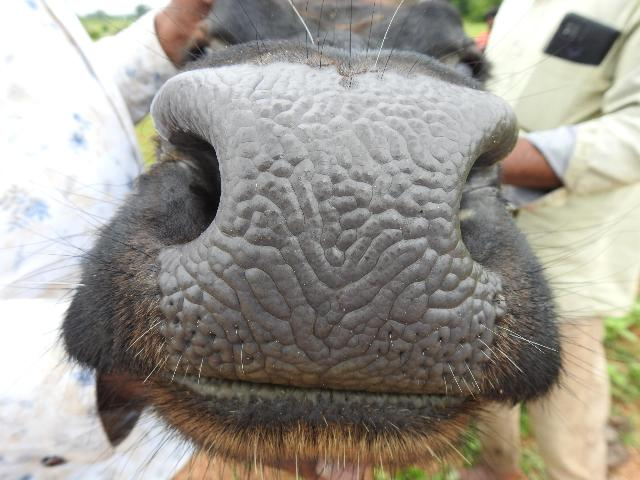Muzzle: (194, 82, 472, 402)
